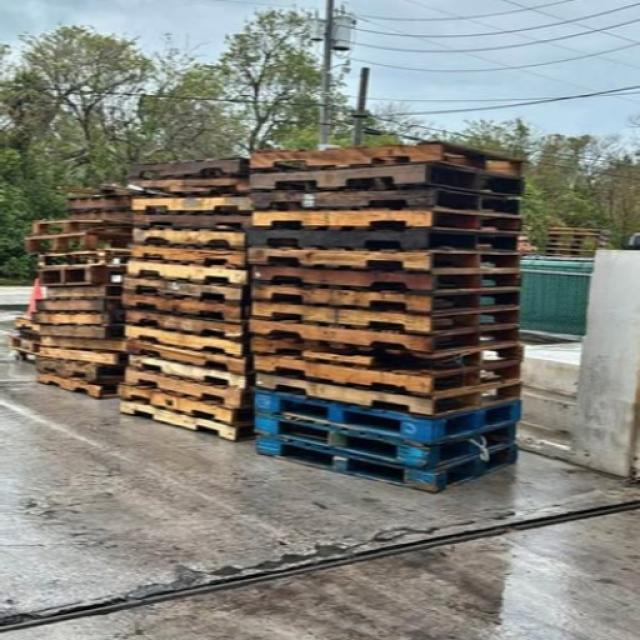non-igps: (249, 404, 522, 478), (248, 381, 527, 452), (251, 429, 523, 497), (248, 346, 528, 405), (249, 366, 527, 425), (245, 329, 530, 383), (243, 135, 528, 186), (248, 293, 526, 342), (244, 158, 532, 205), (245, 274, 527, 322), (244, 312, 528, 359), (249, 197, 527, 245), (241, 180, 529, 223), (244, 255, 527, 298), (242, 221, 524, 263), (240, 240, 528, 280), (112, 379, 260, 433), (121, 361, 262, 415), (115, 396, 265, 446), (122, 334, 262, 381), (125, 349, 262, 394), (121, 320, 249, 364), (116, 288, 249, 330), (121, 305, 248, 346), (124, 254, 254, 293), (123, 237, 251, 274), (119, 271, 247, 307), (125, 153, 257, 185), (120, 172, 256, 202), (126, 190, 259, 220), (128, 223, 249, 255), (21, 228, 137, 260), (127, 208, 258, 235), (32, 353, 130, 389), (29, 216, 139, 247), (32, 258, 132, 292), (50, 176, 168, 204), (32, 368, 125, 403), (33, 244, 136, 274), (34, 320, 132, 347), (37, 331, 130, 359), (28, 308, 132, 332), (32, 343, 126, 369), (32, 294, 132, 316), (41, 278, 129, 302), (63, 192, 136, 216), (64, 206, 138, 228), (4, 331, 48, 366), (10, 312, 48, 344)
